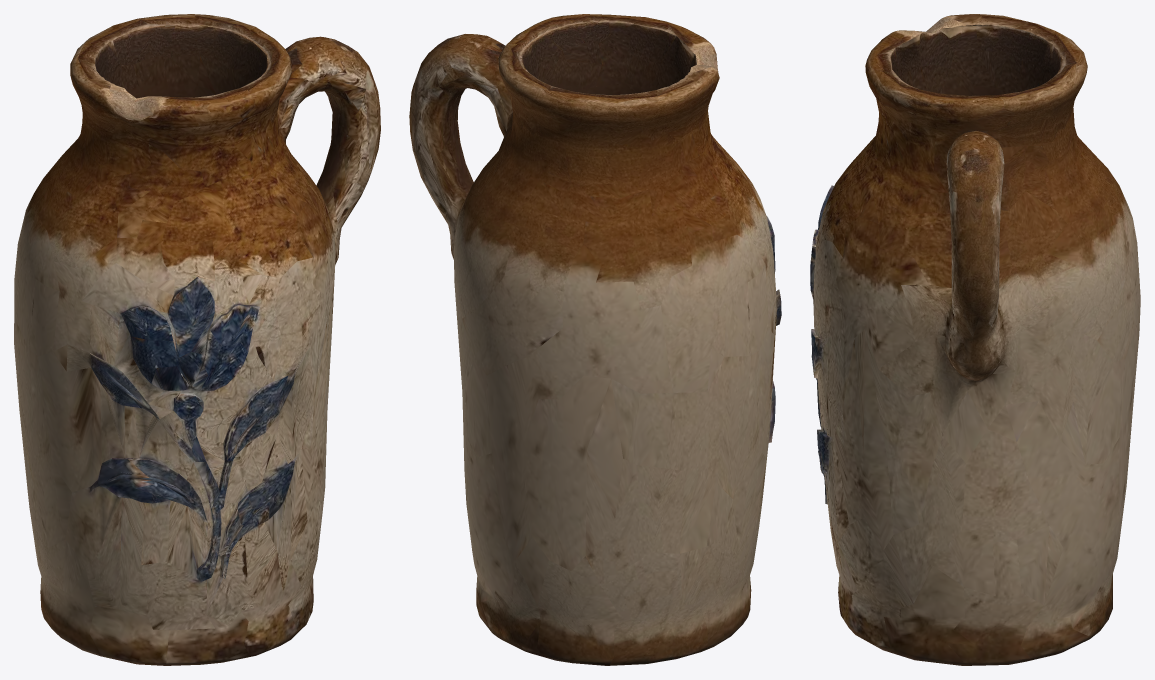
File: up_crock.glb
The picture shows the model from 3 angles, left to right: view 1: azimuth 30°, elevation 25°; view 2: azimuth 150°, elevation 25°; view 3: azimuth 270°, elevation 25°; orthographic projection.
Parts seen in each view (by area): view 1: up_crock; view 2: up_crock; view 3: up_crock.
Boxes of the visible parts, x1,y1,x2,y2 form: up_crock: [14, 14, 380, 665]; up_crock: [409, 14, 781, 665]; up_crock: [810, 14, 1140, 665].
Bounding box in the file's own units: 0.2723 × 0.42 × 0.2265.
Materials: 1 (1 with a texture image).
